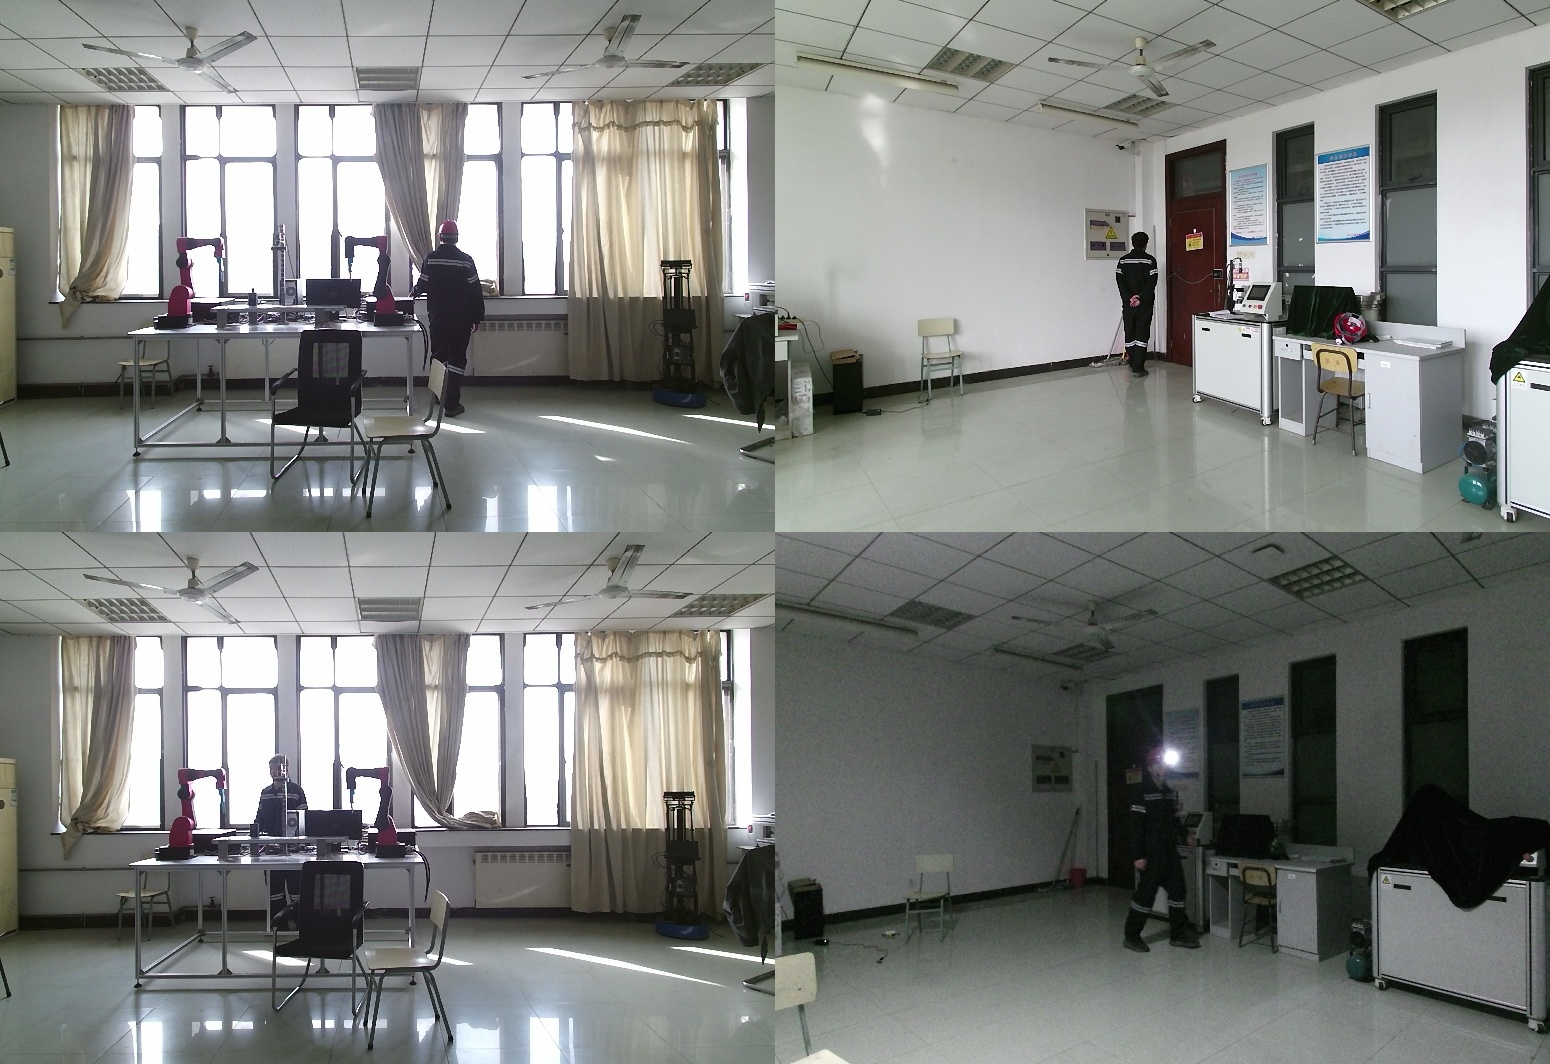person: (1136, 745, 1208, 963), (410, 222, 487, 423), (255, 757, 319, 931), (1115, 233, 1165, 381)
